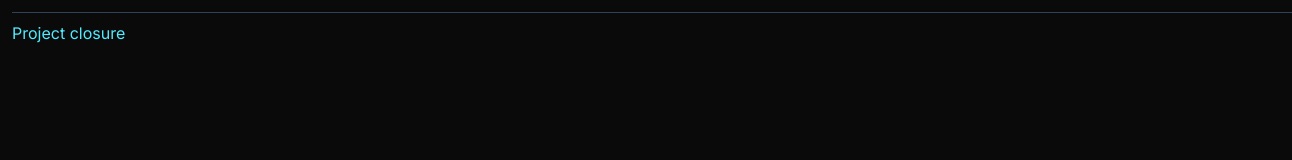
Test: does not load collapsed lessons or offer writes to read-only users
Click the button "Project closure": (69, 33) [12,21,125,45]
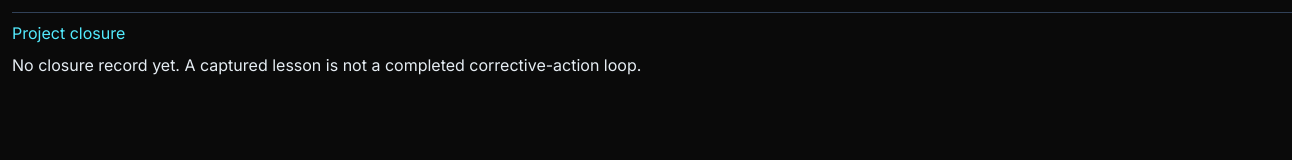
Expected: the text "No closure record yet" is shown, [12,55,641,75]
